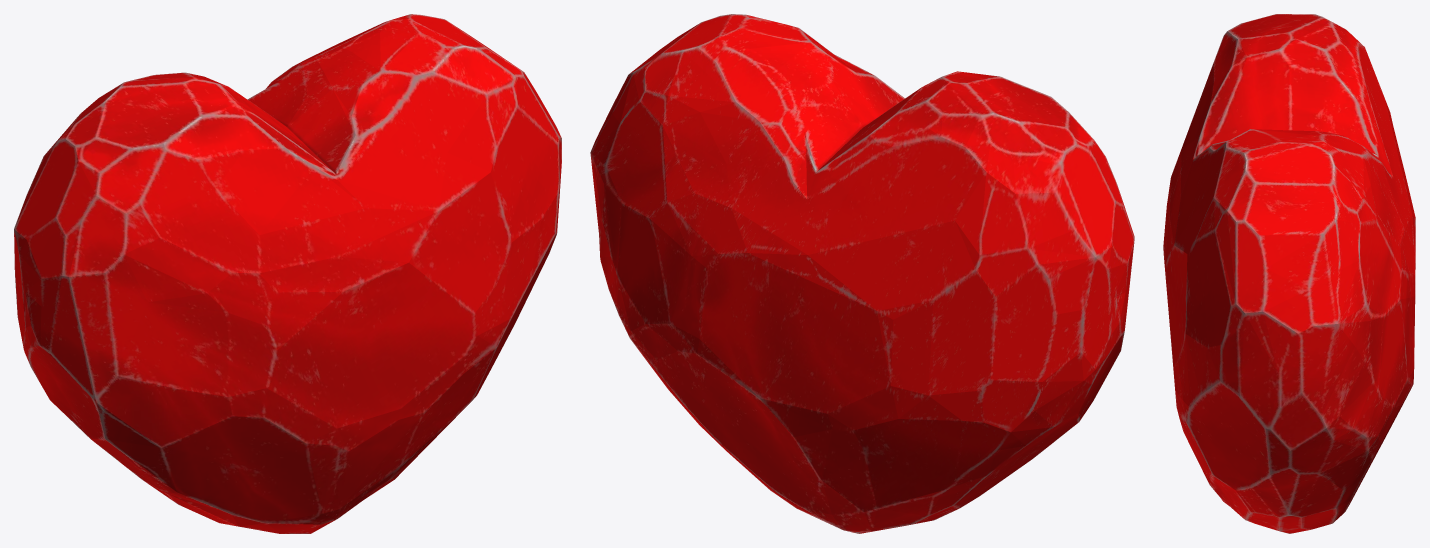
The model's file is crystal_heart-animated.glb.
3 views of the same model, side by side, from view 1: azimuth 30°, elevation 25°; view 2: azimuth 150°, elevation 25°; view 3: azimuth 270°, elevation 25° (orthographic). The views are drawn at different scales.
Parts seen in each view (by area): view 1: Crystal_Heart; view 2: Crystal_Heart; view 3: Crystal_Heart.
Part boxes in pixels (box(x1,y1,x2,y2)): Crystal_Heart: box(14, 14, 561, 533); Crystal_Heart: box(590, 14, 1134, 533); Crystal_Heart: box(1163, 14, 1415, 533).
Size of the model in its own units: 201 by 173 by 89.89.
1 material, 1 textured.
